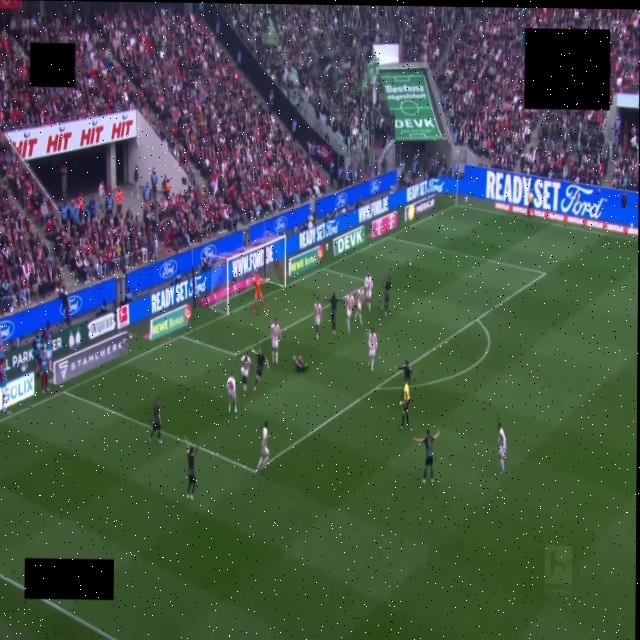player: (414, 430, 440, 483), (185, 437, 198, 499), (251, 348, 269, 390), (258, 421, 269, 470), (149, 398, 161, 442), (328, 293, 340, 336), (240, 354, 252, 395), (253, 274, 265, 314), (226, 371, 237, 413), (271, 318, 281, 364), (368, 328, 378, 372), (396, 360, 412, 386), (498, 423, 506, 475), (345, 292, 354, 332), (355, 286, 364, 324), (314, 299, 322, 340), (384, 276, 392, 316), (365, 273, 372, 311), (293, 356, 308, 372)
referee: (400, 379, 410, 429)
